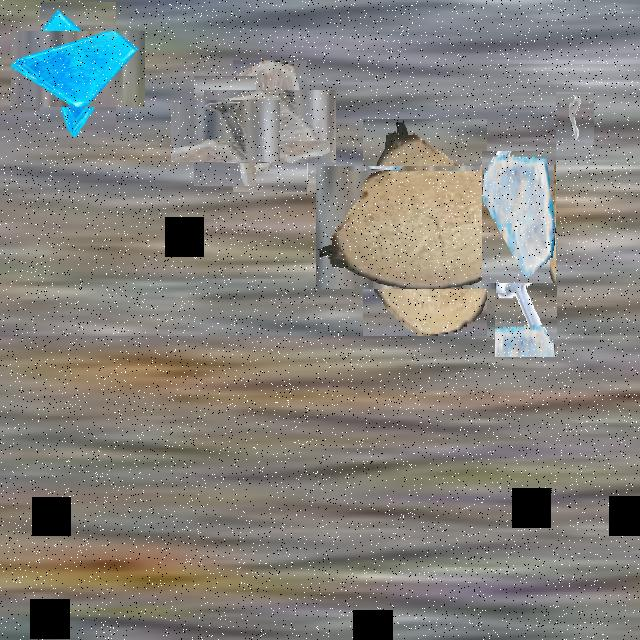glass: (25, 17, 131, 122), (218, 75, 322, 177), (482, 151, 556, 283)
metal: (182, 89, 268, 174), (495, 247, 557, 357), (556, 92, 594, 160)
wood: (340, 142, 510, 313)
